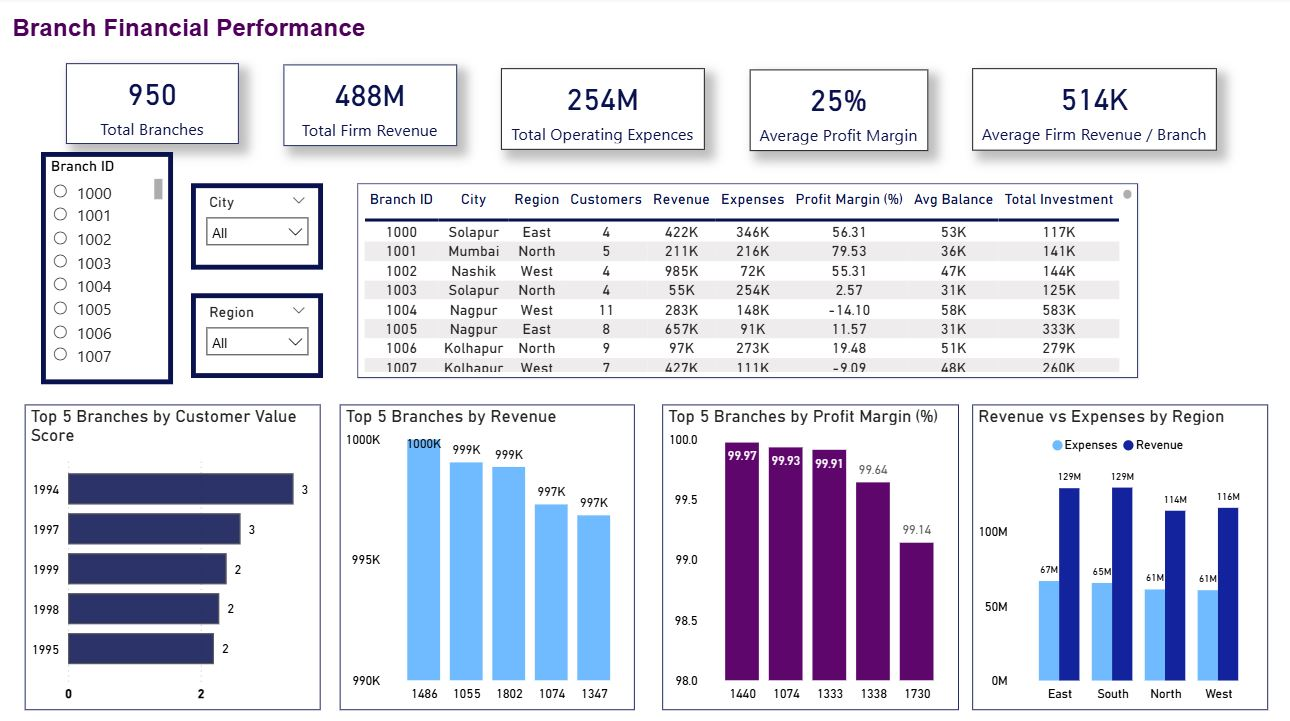

The dashboard page shown, as its layout file describes it:
{"tool":"powerbi","page":{"name":"Branch Performance","canvas":[1280,720],"ordinal":2},"visuals":[{"type":"card","fields":{"Values":["bank_transaction branch_view.Total Brances"]},"box":[68.9,65.5,169.6,79.6],"z":0},{"type":"card","fields":{"Values":["bank_transaction branch_view.Total Firm Revenue"]},"box":[282.1,66.3,170,80],"z":1000},{"type":"card","fields":{"Values":["bank_transaction branch_view.Total operating Expences"]},"box":[495.7,69.5,200,80],"z":2000},{"type":"card","fields":{"Values":["bank_transaction branch_view.Average Profit Margin"]},"box":[739.4,70.7,175,80],"z":3000},{"type":"card","fields":{"Values":["bank_transaction branch_view.Avg Revenue per Branche"]},"box":[958,70.4,239.8,80.8],"z":4000},{"type":"clusteredColumnChart","title":"Top 5 Branches by Revenue","fields":{"Category":["bank_transaction branch_view.Branch_ID"],"Y":["Avg(bank_transaction branch_view.Firm_Revenue)"]},"box":[337.9,400.6,289.7,300.1],"z":5000},{"type":"clusteredColumnChart","title":"Top 5 Branches by Profit Margin (%)","fields":{"Category":["bank_transaction branch_view.Branch_ID"],"Y":["Avg(bank_transaction branch_view.Profit_Margin)"]},"box":[653.7,400.6,291,300.1],"z":6000},{"type":"clusteredColumnChart","title":"Revenue vs Expenses by Region","fields":{"Category":["bank_transaction branch_view.branch_region"],"Y":["Sum(bank_transaction branch_view.Expenses)","Sum(bank_transaction branch_view.Firm_Revenue)"]},"box":[957.7,400.6,290,300.1],"z":8000},{"type":"clusteredBarChart","title":"Top 5 Branches by Customer Value Score","fields":{"Category":["bank_transaction branch_view.Branch_ID"],"Y":["Avg(bank_transaction branch_view.avg_customer_value_score)"]},"box":[28.4,400.2,290,300],"z":9000},{"type":"tableEx","fields":{"Values":["bank_transaction branch_view.Branch_ID","bank_transaction branch_view.branch_city","bank_transaction branch_view.branch_region","bank_transaction branch_view.total_customers","bank_transaction branch_view.Firm_Revenue","bank_transaction branch_view.Expenses","bank_transaction branch_view.Profit_Margin","bank_transaction branch_view.avg_current_balance","bank_transaction branch_view.total_investment_amount"]},"box":[355,182.5,766.6,191.3],"z":10000},{"type":"slicer","fields":{"Values":["bank_transaction branch_view.branch_region"]},"box":[191.5,291,129.7,82.9],"z":11000},{"type":"slicer","fields":{"Values":["bank_transaction branch_view.branch_city"]},"box":[191.5,182.5,129.7,84.4],"z":12000},{"type":"listSlicer","fields":{"Values":["bank_transaction branch_view.Branch_ID"]},"box":[43.7,152.3,129.7,227.7],"z":13000},{"type":"textbox","box":[10.4,11.7,361.4,48.3],"z":14000}]}

Visuals, with their boxes in screenshot pixels (x1, y1, x2, y2), scaled from the page's 1280x720 canvas onto the 1290x721 screenshot:
card - bank_transaction branch_view.Total Brances: crop(69, 66, 240, 145)
card - bank_transaction branch_view.Total Firm Revenue: crop(284, 66, 456, 147)
card - bank_transaction branch_view.Total operating Expences: crop(500, 70, 701, 150)
card - bank_transaction branch_view.Average Profit Margin: crop(745, 71, 922, 151)
card - bank_transaction branch_view.Avg Revenue per Branche: crop(965, 70, 1207, 151)
"Top 5 Branches by Revenue" clusteredColumnChart: crop(341, 401, 633, 702)
"Top 5 Branches by Profit Margin (%)" clusteredColumnChart: crop(659, 401, 952, 702)
"Revenue vs Expenses by Region" clusteredColumnChart: crop(965, 401, 1257, 702)
"Top 5 Branches by Customer Value Score" clusteredBarChart: crop(29, 401, 321, 701)
tableEx - bank_transaction branch_view.Branch_ID x bank_transaction branch_view.branch_city: crop(358, 183, 1130, 374)
slicer - bank_transaction branch_view.branch_region: crop(193, 291, 324, 374)
slicer - bank_transaction branch_view.branch_city: crop(193, 183, 324, 267)
listSlicer - bank_transaction branch_view.Branch_ID: crop(44, 153, 175, 381)
textbox: crop(10, 12, 375, 60)
